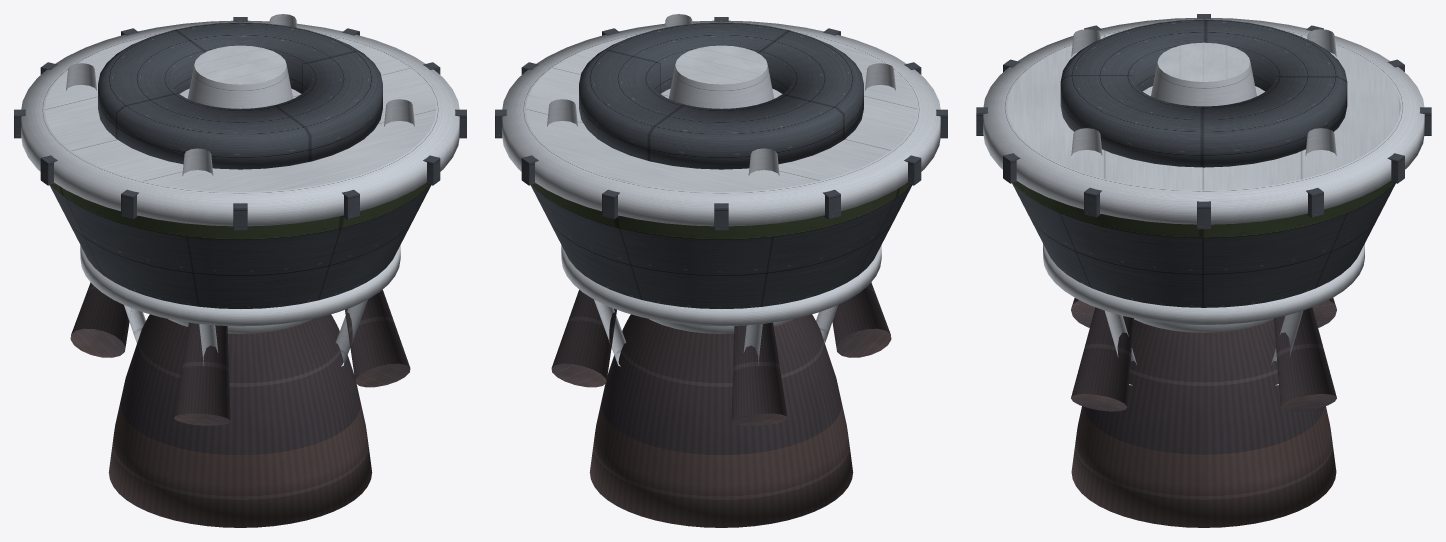
The model's file is light_icbm_engine_mount.glb.
3 renders of one model, left to right at view 1: azimuth 30°, elevation 25°; view 2: azimuth 150°, elevation 25°; view 3: azimuth 270°, elevation 25°, orthographic.
Visible parts, largest first — view 1: Light_ICBM_Missile; view 2: Light_ICBM_Missile; view 3: Light_ICBM_Missile.
Boxes of the visible parts, <box> form: Light_ICBM_Missile: <box>14,14,466,527</box>; Light_ICBM_Missile: <box>495,14,947,527</box>; Light_ICBM_Missile: <box>976,14,1431,527</box>.
Bounding box in the file's own units: 0.509 × 0.505 × 0.509.
4 materials, 4 textured.
